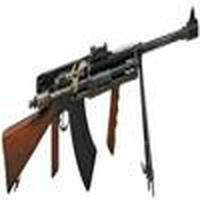gun: (1, 16, 200, 191)
